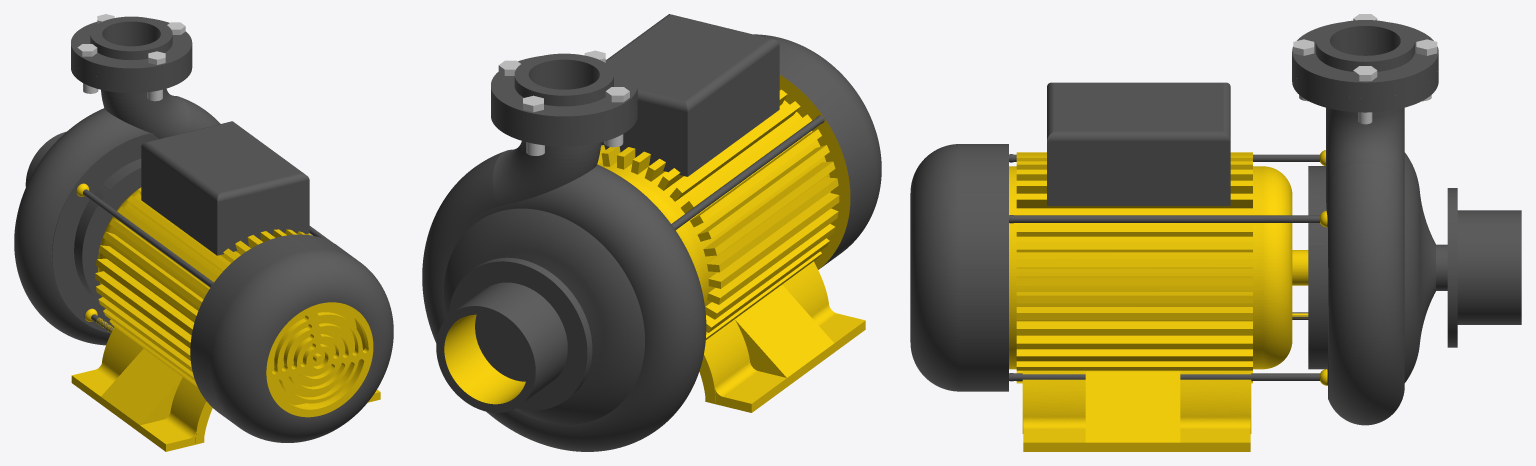
File: pump.glb
3 renders of one model, left to right at view 1: azimuth 30°, elevation 25°; view 2: azimuth 150°, elevation 25°; view 3: azimuth 270°, elevation 25°, orthographic. The views are drawn at different scales.
Visible parts, largest first — view 1: Node2, Node1, Node3; view 2: Node2, Node1, Node3; view 3: Node2, Node1, Node3.
Boxes of the visible parts, box(x1,y1,x2,y2) form: Node2: box(14, 16, 393, 442); Node1: box(71, 183, 380, 451); Node3: box(77, 14, 185, 101); Node2: box(422, 14, 881, 451); Node1: box(444, 75, 865, 412); Node3: box(498, 50, 629, 155); Node2: box(910, 20, 1521, 425); Node1: box(1009, 150, 1327, 451); Node3: box(1293, 14, 1437, 124).
Size of the model in its own units: 400 by 518 by 776.
